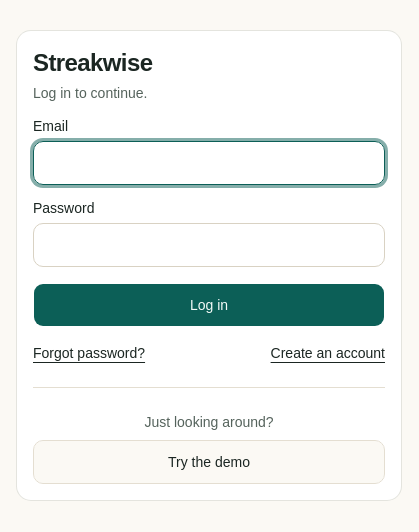
Scenario: login (ACCT-3, AUTH-4) › says what is missing instead of ignoring a click on an empty form
Click the button "Log in" at (209, 304), box [33,282,385,326]
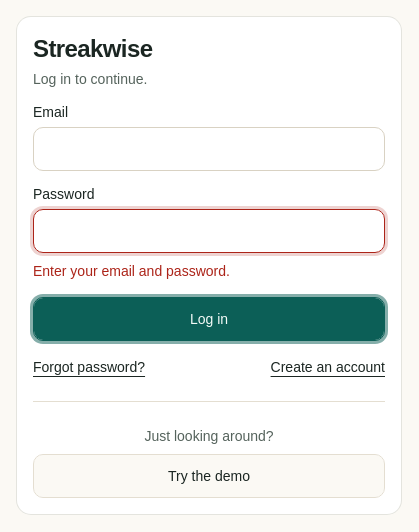
Expected: the message reads "Enter your email and password.", [33,262,230,278]
